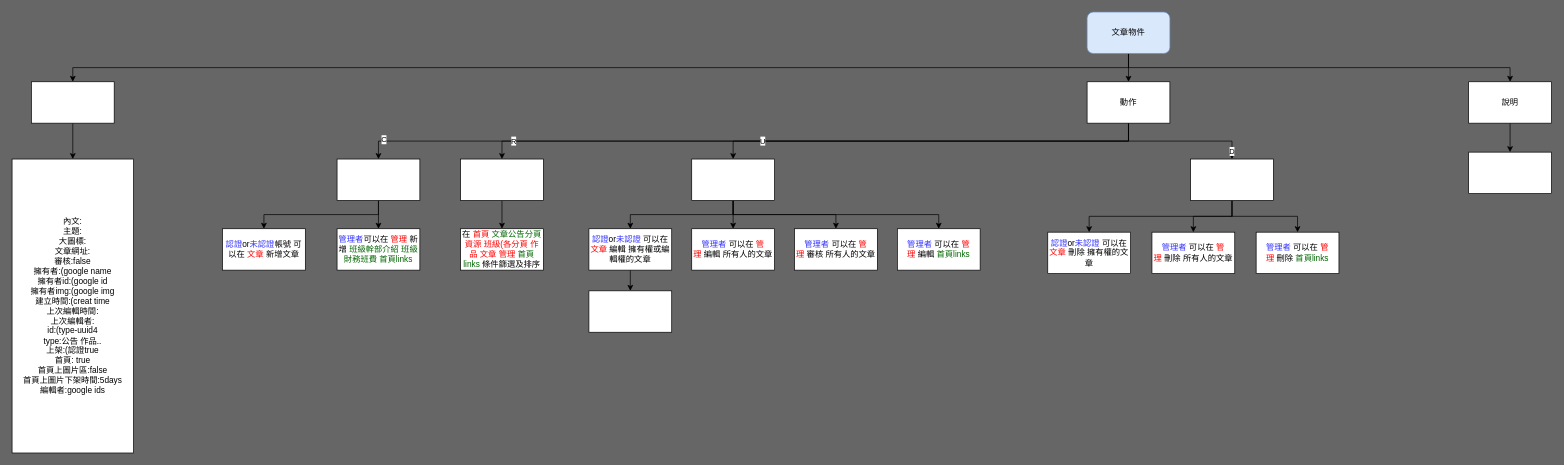
Some shapes in this 1564 by 465 pixel diagram are drawn without their labels. Each missing label, with the centre of its shape:
上傳: pixel 733 179
刪除: pixel 1231 179
屬性: pixel 72 102
新增: pixel 378 179
新增刪除編輯者 也要去人物件刪減: pixel 630 311
網址: /article/type-uuid4 type: 公告、資源... uuid4: 生成亂碼: pixel 1509 172
讀取: pixel 501 179
